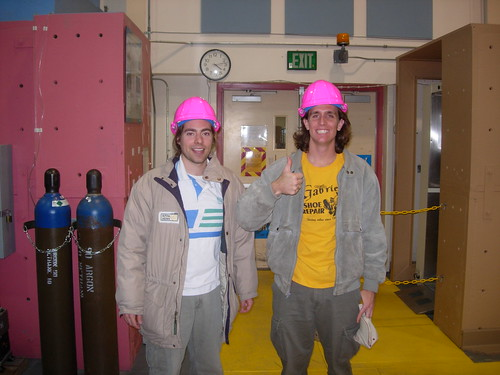person hardhat: (239, 79, 387, 375), (118, 93, 241, 375)
